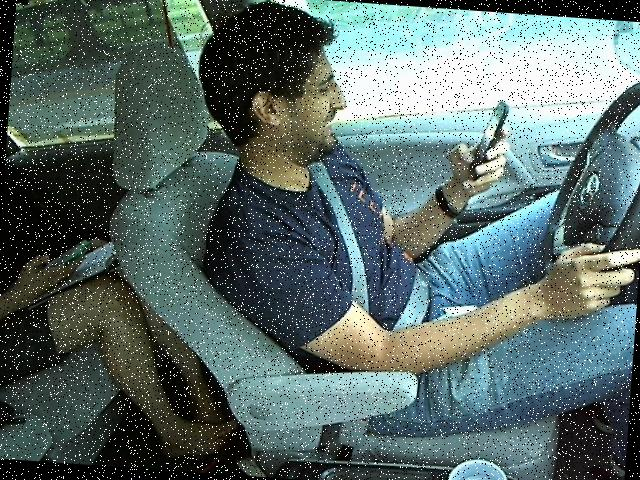c1 - Texting: (167, 0, 639, 394)
